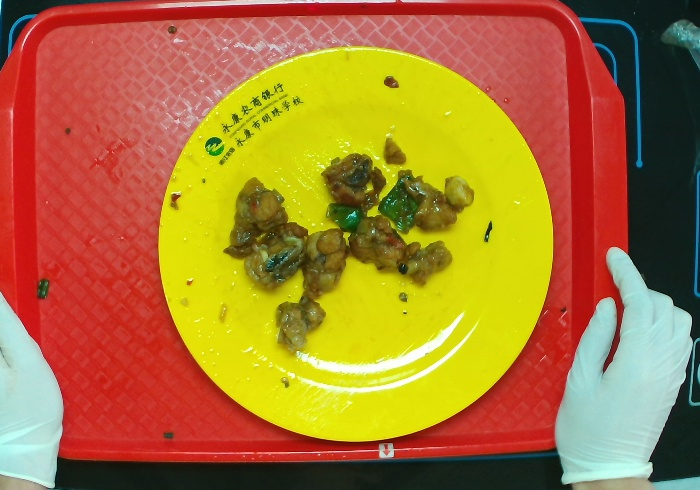YKMZ-Huang_Se_Mian_Pan: (157, 45, 554, 443)
